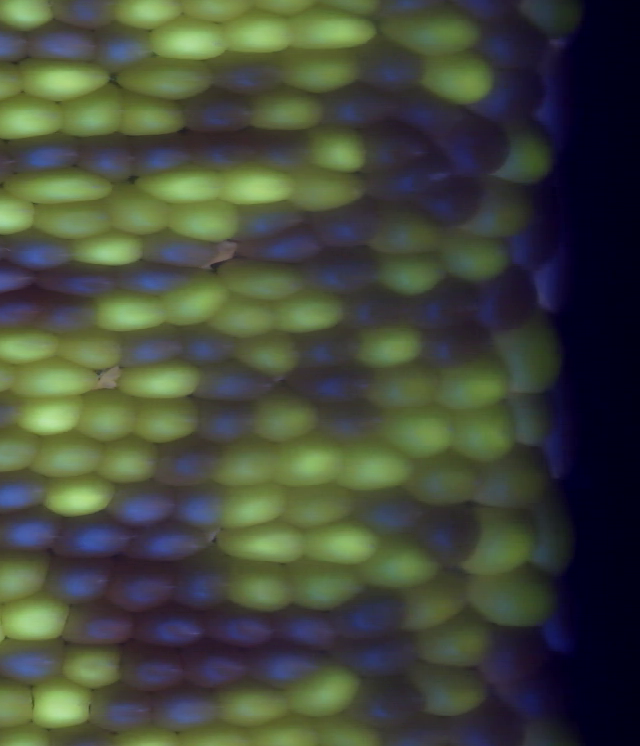fluorescent: (493, 303, 573, 398), (467, 558, 564, 636), (372, 1, 490, 63), (461, 499, 543, 585), (402, 656, 501, 726), (404, 603, 500, 674), (466, 441, 560, 513), (108, 51, 226, 107), (273, 3, 389, 59), (326, 431, 422, 497), (244, 378, 333, 449), (487, 107, 562, 191), (401, 445, 496, 511), (278, 553, 373, 618), (358, 199, 453, 263), (522, 476, 580, 579), (418, 45, 510, 109), (436, 347, 522, 415), (209, 254, 317, 308), (9, 54, 119, 107), (372, 401, 466, 463), (0, 161, 121, 209), (280, 658, 369, 723), (152, 265, 237, 333), (397, 566, 476, 639), (440, 396, 521, 467), (98, 175, 181, 244), (358, 528, 446, 593), (211, 476, 296, 542), (464, 177, 546, 245), (217, 553, 299, 621), (269, 427, 354, 492), (270, 43, 370, 98), (279, 161, 376, 217), (357, 359, 452, 416), (212, 516, 313, 569), (206, 433, 293, 494), (240, 83, 336, 138), (211, 676, 301, 732), (210, 157, 303, 211), (88, 286, 184, 338), (344, 319, 433, 375), (368, 247, 453, 305), (108, 87, 196, 143), (199, 287, 287, 343), (439, 231, 521, 291), (277, 478, 364, 534), (498, 385, 569, 453), (141, 12, 237, 62), (2, 354, 104, 401), (131, 161, 233, 208), (297, 514, 387, 567), (164, 194, 250, 249), (68, 384, 146, 444), (0, 588, 79, 647), (24, 674, 100, 735), (39, 468, 123, 523), (29, 427, 110, 484), (54, 81, 133, 139), (26, 198, 121, 246), (128, 391, 208, 448), (214, 6, 300, 59), (116, 356, 210, 404), (268, 285, 353, 338), (229, 326, 307, 383), (63, 223, 152, 272), (300, 118, 373, 177), (53, 324, 131, 379), (96, 428, 164, 489), (0, 91, 72, 145), (510, 1, 601, 43), (0, 544, 60, 607), (58, 638, 128, 692), (11, 392, 90, 438), (307, 709, 398, 746), (0, 321, 69, 369), (0, 664, 46, 734), (103, 1, 185, 35), (247, 713, 328, 746), (0, 425, 49, 476), (0, 179, 41, 239), (173, 1, 264, 23), (0, 1, 58, 35), (0, 54, 36, 108)
nonfluorescent: (529, 35, 591, 159), (524, 209, 594, 318), (500, 172, 569, 274), (358, 141, 459, 209), (490, 654, 587, 723), (467, 13, 558, 86), (436, 104, 518, 184), (537, 374, 593, 489), (324, 581, 414, 651), (377, 79, 477, 141), (352, 31, 436, 102), (118, 513, 220, 571), (466, 62, 547, 135), (471, 617, 559, 684), (312, 78, 408, 139), (411, 499, 489, 573), (326, 627, 429, 683), (354, 112, 434, 181), (143, 676, 230, 739), (248, 632, 334, 695), (402, 272, 493, 331), (103, 473, 186, 537), (169, 81, 262, 138), (344, 483, 432, 543), (267, 596, 348, 661), (46, 508, 140, 564), (102, 554, 188, 615), (109, 637, 196, 697), (341, 674, 432, 731), (296, 241, 387, 298), (32, 553, 119, 612), (476, 263, 546, 336), (188, 357, 286, 409), (176, 634, 256, 697), (434, 698, 539, 746), (167, 544, 232, 621), (284, 319, 370, 377), (146, 434, 229, 492), (53, 596, 136, 654), (127, 597, 210, 655), (20, 14, 104, 71), (309, 195, 391, 253), (278, 362, 381, 408), (409, 171, 492, 228), (81, 677, 158, 737), (1, 223, 86, 276), (123, 127, 203, 183), (300, 395, 386, 447), (199, 596, 283, 649), (414, 324, 503, 374), (66, 131, 144, 188), (0, 631, 78, 688), (0, 128, 92, 176), (206, 47, 286, 101), (233, 225, 330, 269), (246, 125, 322, 181), (87, 19, 161, 76), (33, 261, 127, 305), (332, 282, 413, 333), (539, 602, 590, 683), (188, 392, 263, 447), (136, 226, 227, 271), (170, 477, 233, 541), (113, 257, 210, 298), (180, 127, 264, 174), (228, 197, 310, 245), (116, 322, 193, 373), (0, 504, 71, 559), (177, 318, 244, 372), (33, 291, 101, 341), (0, 467, 57, 521), (0, 286, 46, 336), (0, 12, 38, 68), (0, 257, 41, 305), (0, 387, 30, 437)
